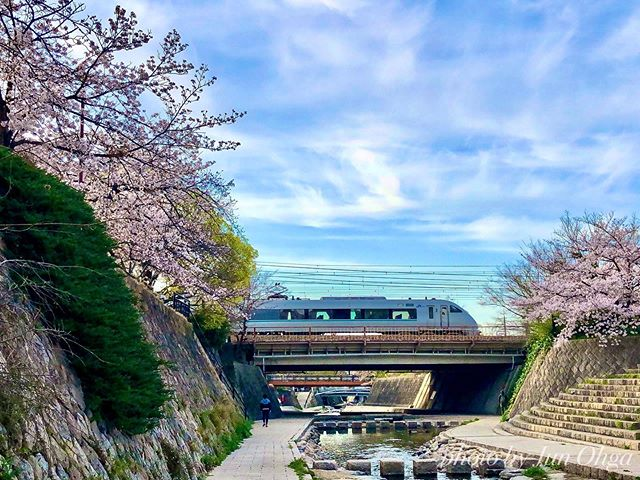river: (302, 415, 486, 480)
sky: (211, 1, 637, 268)
train: (222, 291, 489, 337)
tree: (492, 220, 640, 344)
vegetation: (1, 1, 259, 302)
